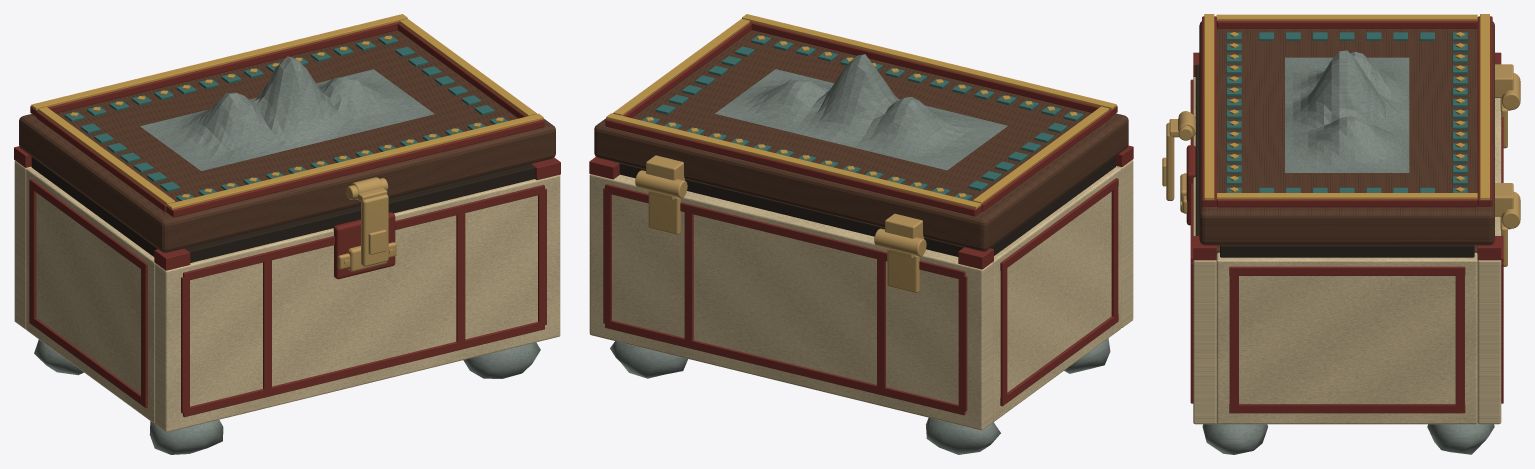
File: bhutan.glb
3 views of the same model, side by side, from view 1: azimuth 30°, elevation 25°; view 2: azimuth 150°, elevation 25°; view 3: azimuth 270°, elevation 25° (orthographic).
Visible parts, largest first — view 1: Earth / body long, Lid / polished slab, Earth / body side, Mountain / asymmetric relief, Seam / long, Timber / cross rail, Cornice / long, Cornice / long.001, Timber / cross rail.001, Cornice / ochre long, Cornice / ochre long.001, Earth / body long.001 (+19 smaller); view 2: Earth / body long.001, Lid / polished slab, Earth / body side, Mountain / asymmetric relief, Timber / cross rail.002, Cornice / long.001, Cornice / long, Seam / long.001, Timber / cross rail.003, Cornice / ochre long.001, Cornice / ochre long, Earth / body long (+23 smaller); view 3: Earth / body side.001, Lid / polished slab, Mountain / asymmetric relief, Earth / body long.001, Earth / body long, Seam / side.001, Timber / side rail.003, Cornice / side, Cornice / side.001, Timber / side rail.002, Cornice / ochre long, Cornice / ochre long.001 (+20 smaller).
Part boxes in pixels (x1=…): Earth / body long: x1=155, y1=175, x2=560, y2=432; Lid / polished slab: x1=19, y1=30, x2=555, y2=252; Earth / body side: x1=26, y1=167, x2=155, y2=423; Mountain / asymmetric relief: x1=140, y1=56, x2=434, y2=170; Seam / long: x1=184, y1=164, x2=535, y2=262; Timber / cross rail: x1=183, y1=322, x2=544, y2=417; Cornice / long: x1=166, y1=119, x2=544, y2=217; Cornice / long.001: x1=30, y1=21, x2=399, y2=116; Timber / cross rail.001: x1=183, y1=184, x2=544, y2=280; Cornice / ochre long: x1=167, y1=113, x2=543, y2=209; Cornice / ochre long.001: x1=31, y1=14, x2=407, y2=110; Earth / body long.001: x1=14, y1=160, x2=31, y2=329; Earth / body long.001: x1=589, y1=174, x2=993, y2=430; Lid / polished slab: x1=594, y1=30, x2=1128, y2=251; Earth / body side: x1=993, y1=166, x2=1121, y2=421; Mountain / asymmetric relief: x1=715, y1=54, x2=1007, y2=170; Timber / cross rail.002: x1=605, y1=320, x2=965, y2=415; Cornice / long.001: x1=605, y1=119, x2=981, y2=216; Cornice / long: x1=750, y1=21, x2=1117, y2=116; Seam / long.001: x1=619, y1=163, x2=963, y2=256; Timber / cross rail.003: x1=605, y1=184, x2=965, y2=279; Cornice / ochre long.001: x1=606, y1=113, x2=980, y2=209; Cornice / ochre long: x1=742, y1=14, x2=1116, y2=109; Earth / body long: x1=1116, y1=160, x2=1133, y2=327; Earth / body side.001: x1=1216, y1=252, x2=1477, y2=424; Lid / polished slab: x1=1199, y1=21, x2=1494, y2=245; Mountain / asymmetric relief: x1=1285, y1=50, x2=1409, y2=172; Earth / body long.001: x1=1477, y1=98, x2=1501, y2=424; Earth / body long: x1=1193, y1=77, x2=1216, y2=424; Seam / side.001: x1=1220, y1=245, x2=1474, y2=257; Timber / side rail.003: x1=1229, y1=266, x2=1465, y2=275; Cornice / side: x1=1216, y1=20, x2=1477, y2=28; Cornice / side.001: x1=1216, y1=199, x2=1477, y2=207; Timber / side rail.002: x1=1229, y1=404, x2=1465, y2=413; Cornice / ochre long: x1=1204, y1=14, x2=1214, y2=200; Cornice / ochre long.001: x1=1480, y1=14, x2=1489, y2=200.
Bounding box in the file's own units: 3.77 × 2.87 × 2.88.
8 materials, 3 textured.
